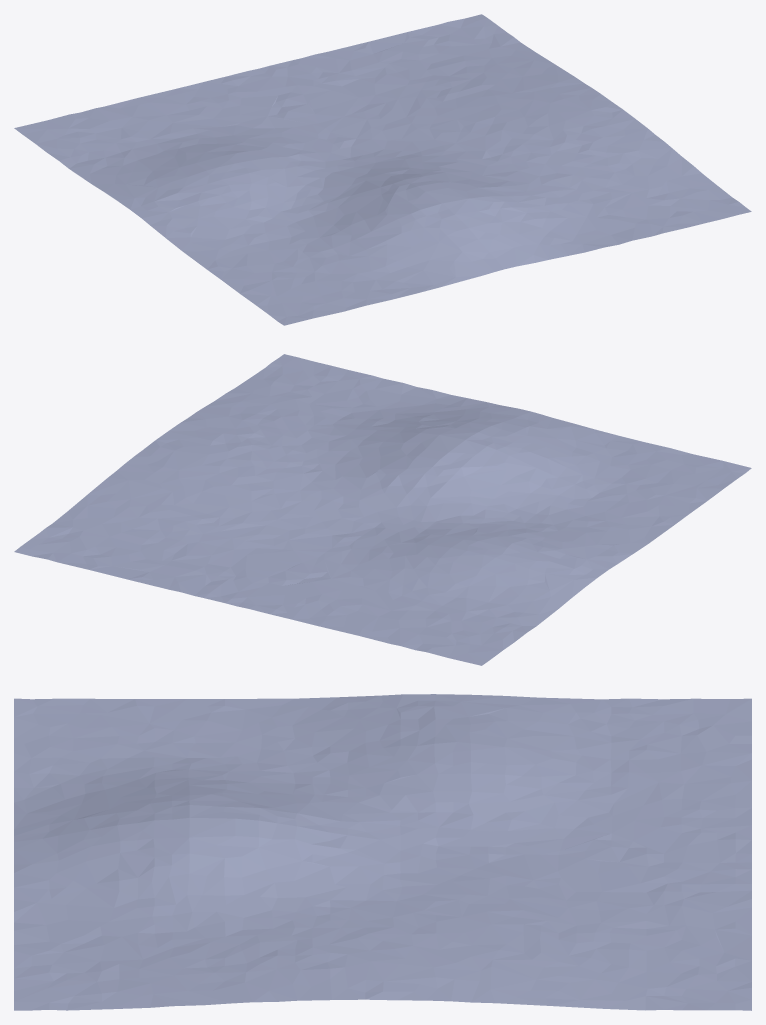
The model's file is LevelBase1.fbx.
3 views of the same model, one above another, from view 1: azimuth 30°, elevation 25°; view 2: azimuth 150°, elevation 25°; view 3: azimuth 270°, elevation 25° (orthographic). The views are drawn at different scales.
Visible parts, largest first — view 1: Plane.002; view 2: Plane.002; view 3: Plane.002.
Part boxes in pixels (x1=…): Plane.002: x1=14, y1=14, x2=751, y2=325; Plane.002: x1=14, y1=354, x2=751, y2=665; Plane.002: x1=14, y1=694, x2=751, y2=1010.
Size of the model in its own units: 2926 by 130 by 2927.
